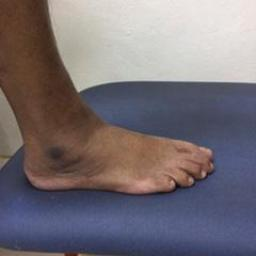Lateral View -Right Foot-: (2, 95, 222, 206)
